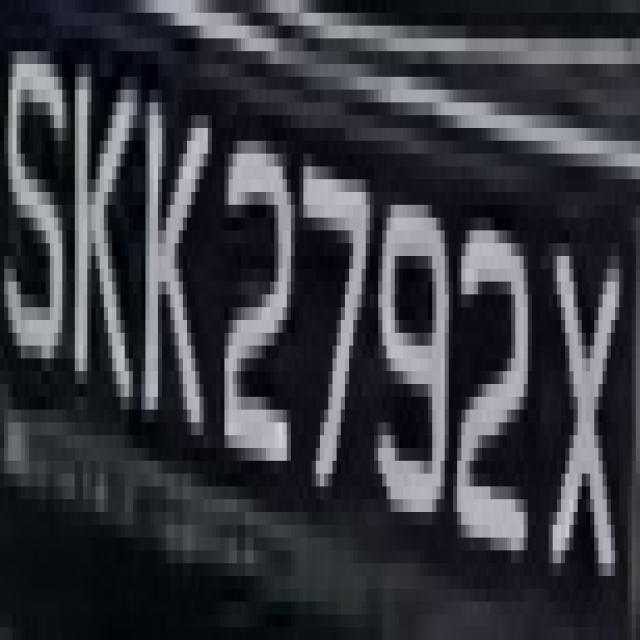2: (216, 102, 299, 512), (457, 154, 524, 563)
7: (291, 102, 370, 500)
9: (370, 140, 453, 538)
K: (133, 64, 216, 435), (58, 25, 133, 422)
S: (4, 52, 75, 358)
X: (544, 204, 640, 602)
